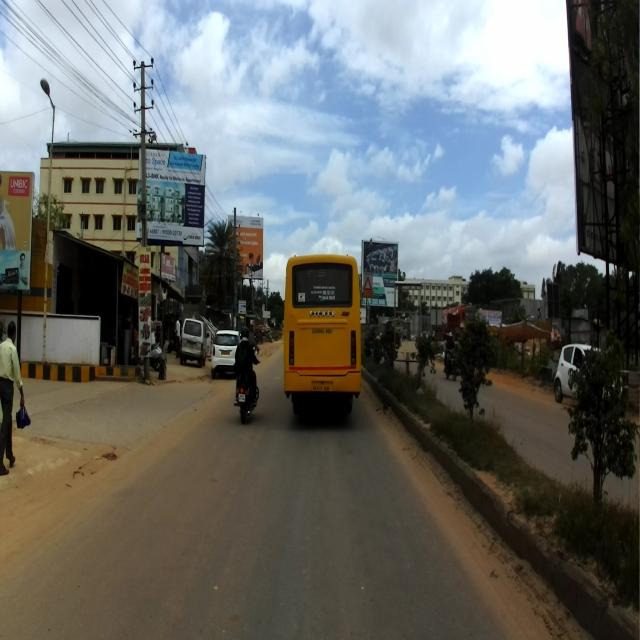Car_Maruti-Suzuki: (554, 343, 622, 402), (178, 317, 210, 368)
bus: (281, 251, 362, 421)
motorcycle_RoyalEnfield: (232, 348, 259, 424)
